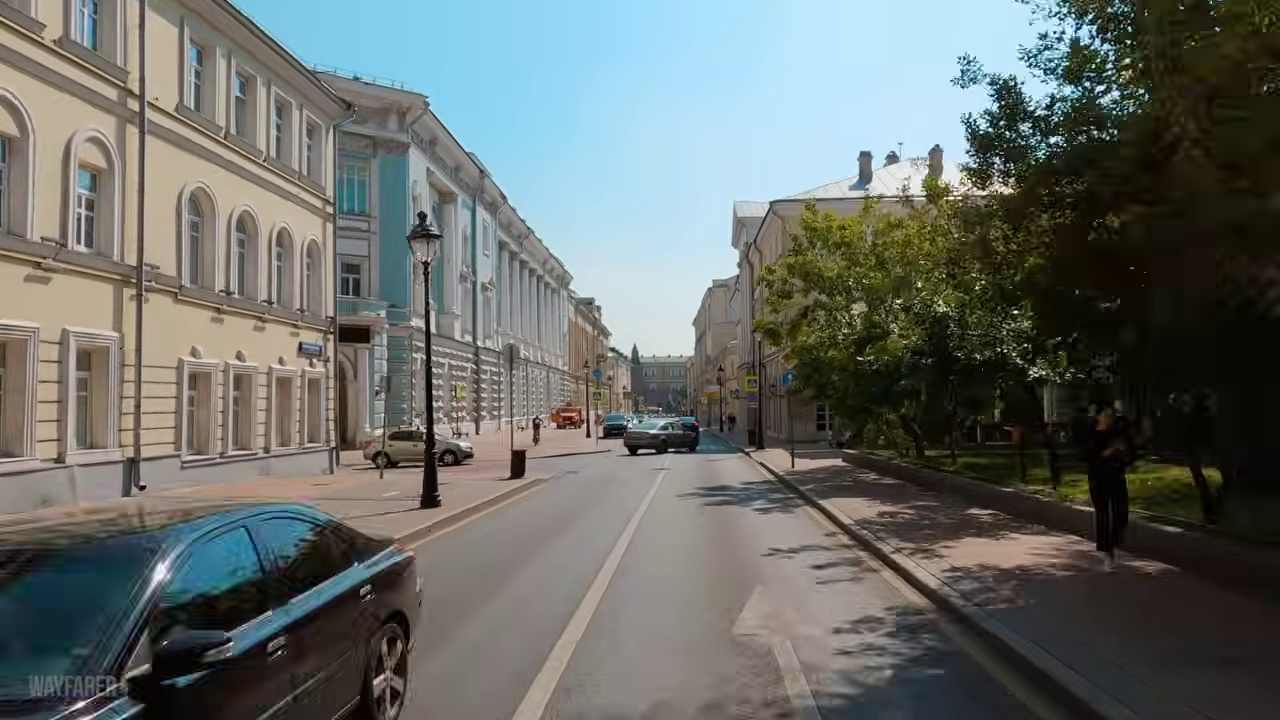apagada: (405, 225, 443, 268)
